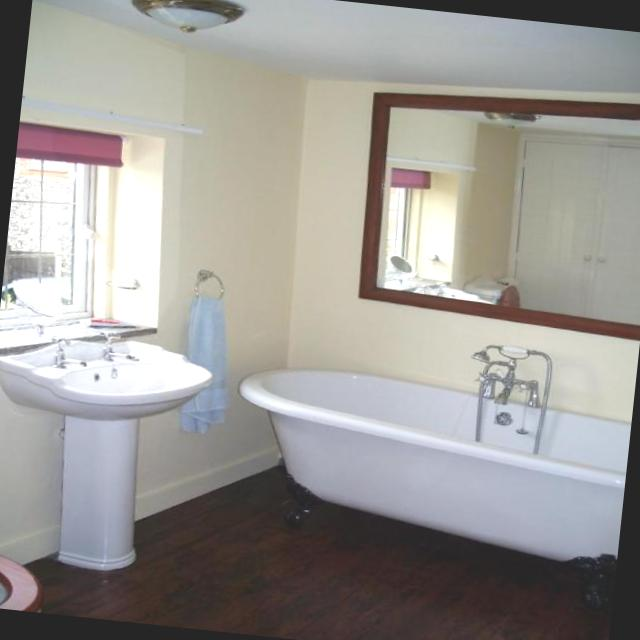cupboard: (498, 127, 640, 325)
faucet: (98, 330, 142, 364), (48, 336, 89, 370)
pots: (0, 544, 47, 611)
